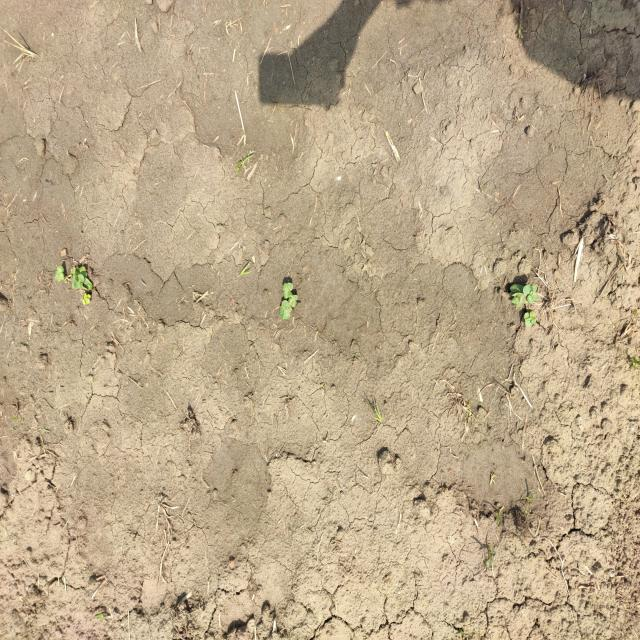seedling_s1: (509, 292, 526, 303), (523, 284, 538, 296), (279, 305, 290, 320), (281, 300, 292, 313), (510, 284, 524, 294), (527, 292, 538, 304), (72, 272, 79, 290), (524, 312, 532, 327), (511, 296, 520, 308), (84, 277, 92, 290), (55, 272, 65, 282), (79, 266, 87, 278), (78, 274, 84, 289), (282, 283, 293, 291), (288, 298, 297, 307), (530, 311, 536, 324), (56, 266, 64, 275), (284, 291, 293, 299), (82, 298, 90, 305), (82, 293, 91, 299), (291, 295, 298, 300)
